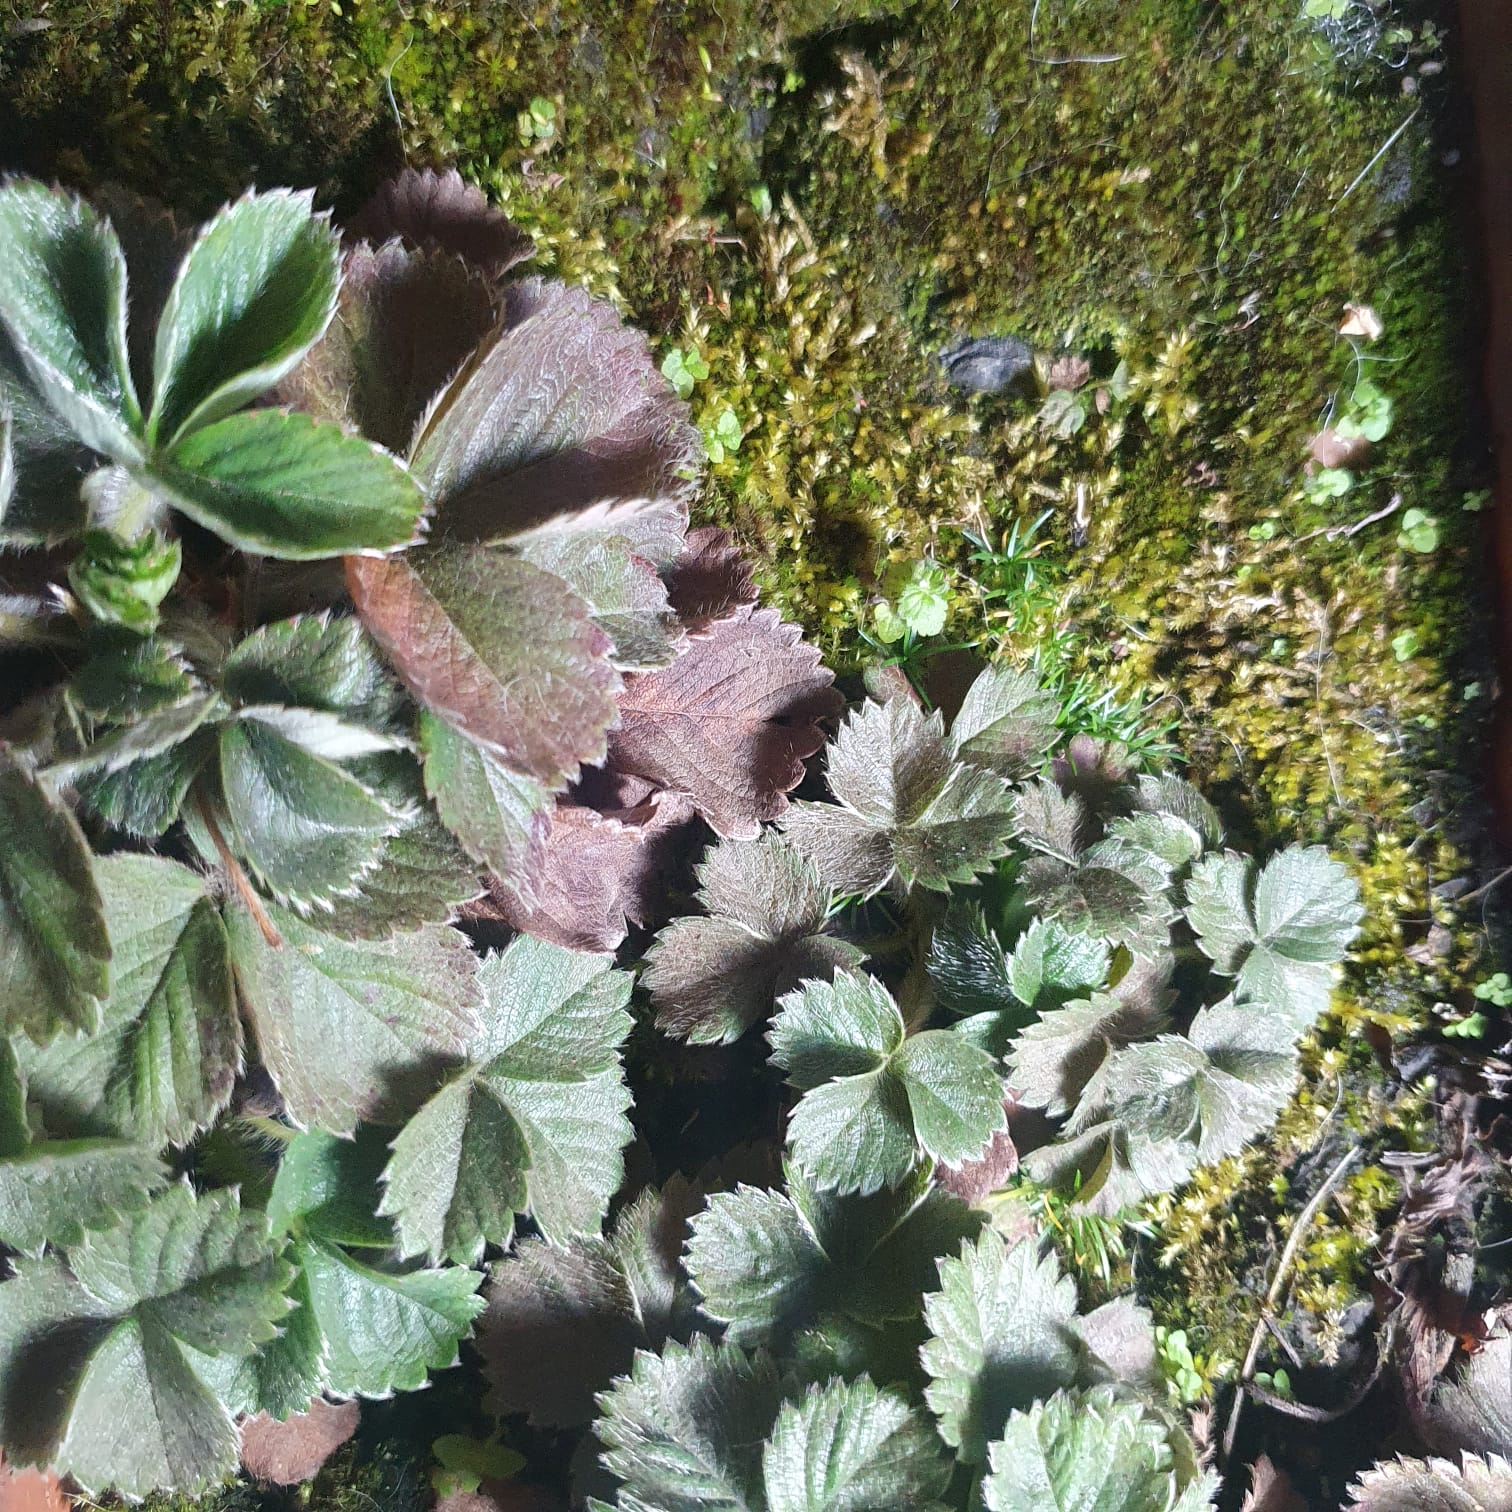tizon_temprano: (389, 276, 713, 901)
